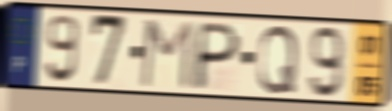7: (88, 11, 129, 90)
9: (308, 24, 346, 101), (45, 12, 82, 86)
M: (138, 18, 197, 93)
P: (190, 20, 244, 94)
Q: (255, 23, 300, 97)
